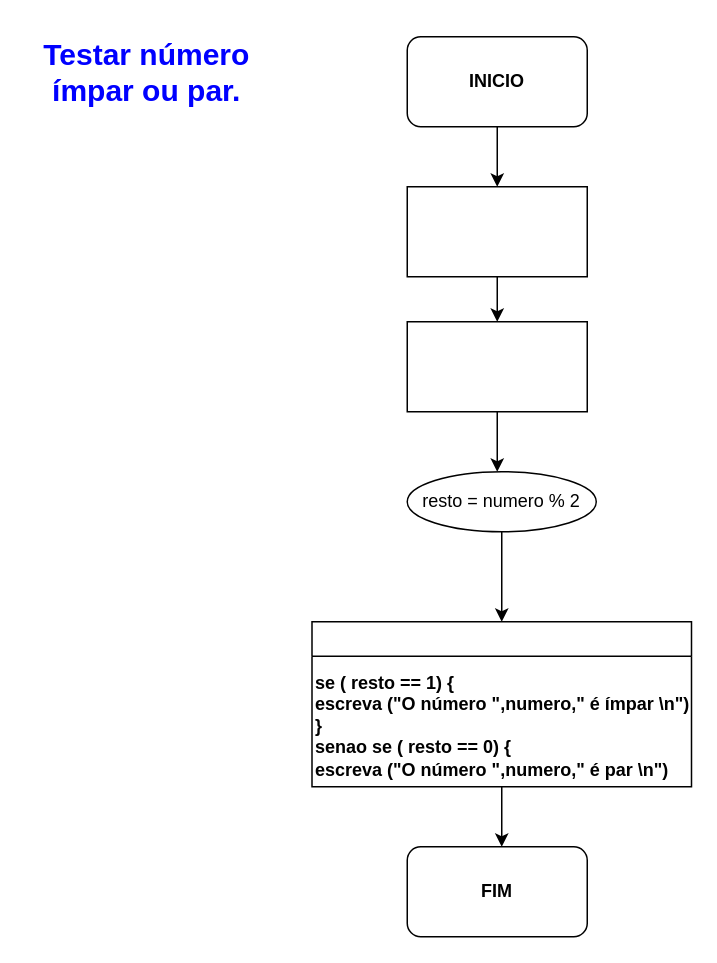
This 717x963 diagram has some shape labels left out. Here are the shapes that lost their labels. From the top down, the centre of each, then its label:
At (496,231): "Digite um número INTEIRO para verificarmos se ele é par ou ímpar.".
At (496,366): "numero <- entrada".
